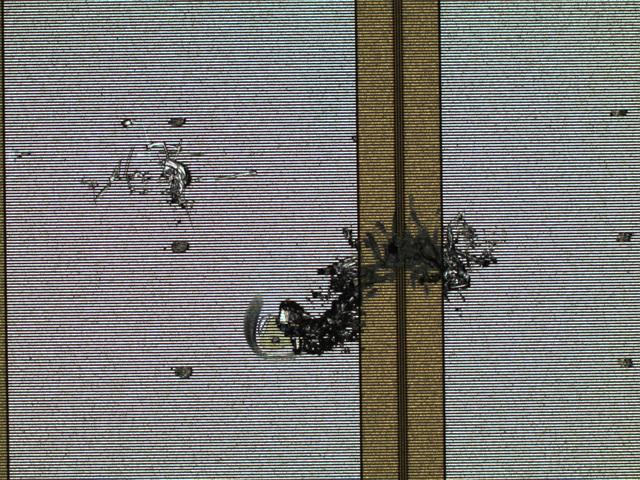SCRATCH: (75, 110, 521, 364)
